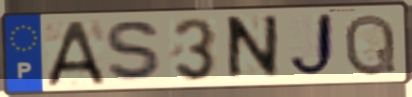3: (167, 16, 221, 84)
A: (44, 18, 109, 89)
J: (286, 11, 339, 82)
N: (224, 12, 281, 84)
Q: (342, 11, 399, 79)
S: (102, 18, 168, 86)
